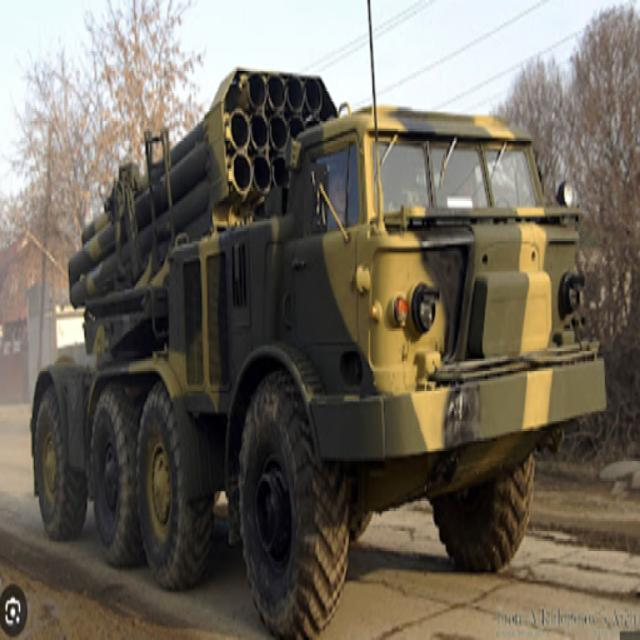MLRS: (28, 64, 606, 640)
